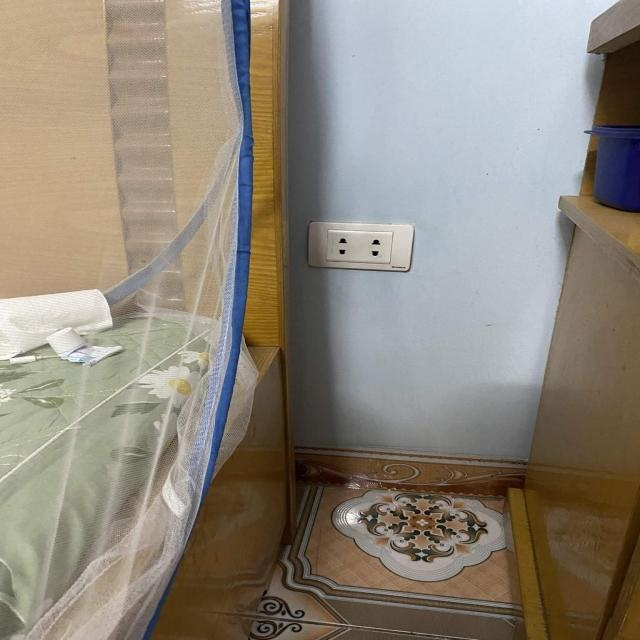outlet: (307, 221, 414, 272)
